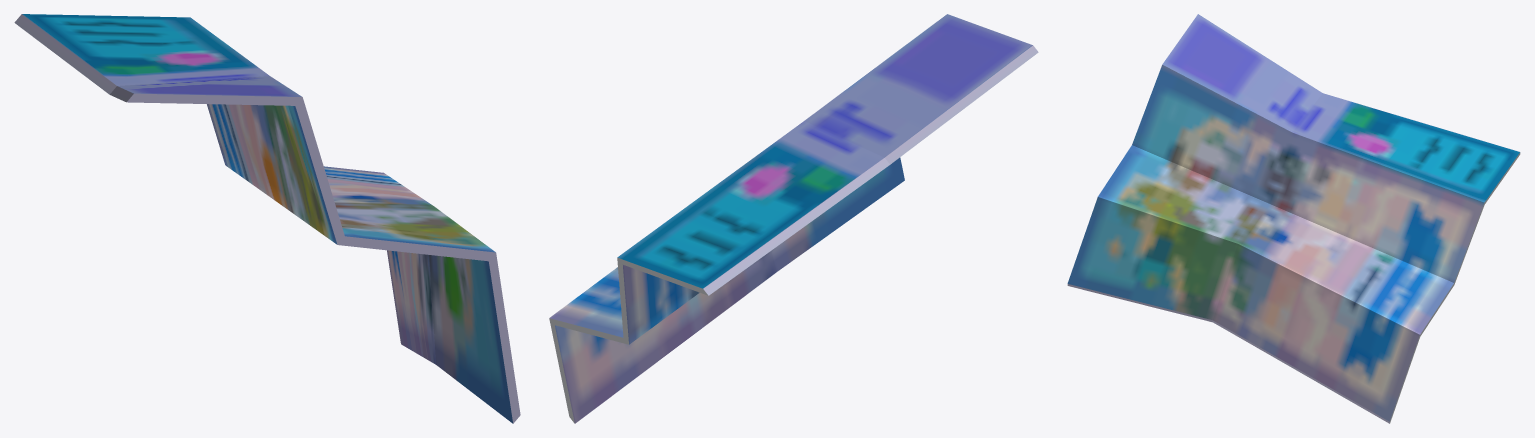
Rendered from mapBluePrint1@Map.fbx.
3 renders of one model, left to right at view 1: azimuth 30°, elevation 25°; view 2: azimuth 150°, elevation 25°; view 3: azimuth 270°, elevation 25°, orthographic. The views are drawn at different scales.
Visible parts, largest first — view 1: mapBluePrint1:Map; view 2: mapBluePrint1:Map; view 3: mapBluePrint1:Map.
Boxes of the visible parts, <box> form: mapBluePrint1:Map: <box>14,14,520,423</box>; mapBluePrint1:Map: <box>549,14,1038,423</box>; mapBluePrint1:Map: <box>1067,14,1520,423</box>.
Bounding box in the file's own units: 49.36 × 50.35 × 72.68.
